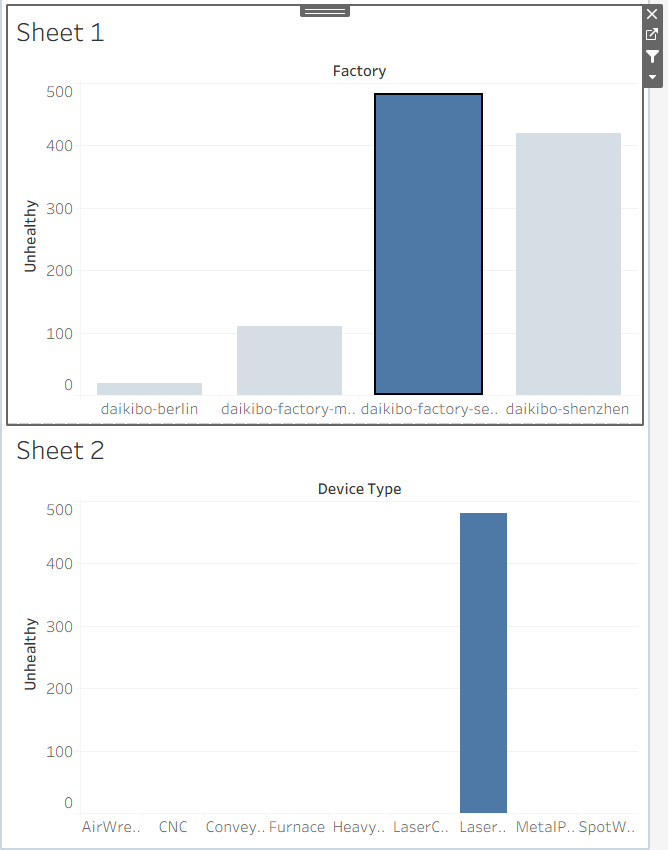

The page's visual inventory and layout, read from the dashboard file:
{"tool":"tableau","page":{"name":"Dashboard 1","canvas":[650,860],"ordinal":0},"visuals":[{"type":"worksheet","title":"Sheet 1","mark":"Automatic","rows":["Calculation_1329319412363265"],"cols":["factory"],"box":[8,8.1,634,421.9]},{"type":"worksheet","title":"Sheet 2","mark":"Automatic","rows":["Calculation_1329319412363265"],"cols":["deviceType"],"box":[8,430,634,421.9]}]}

Visuals, with their boxes in screenshot pixels (x1, y1, x2, y2):
"Sheet 1" worksheet: 1,0,642,426
"Sheet 2" worksheet: 1,426,642,849
